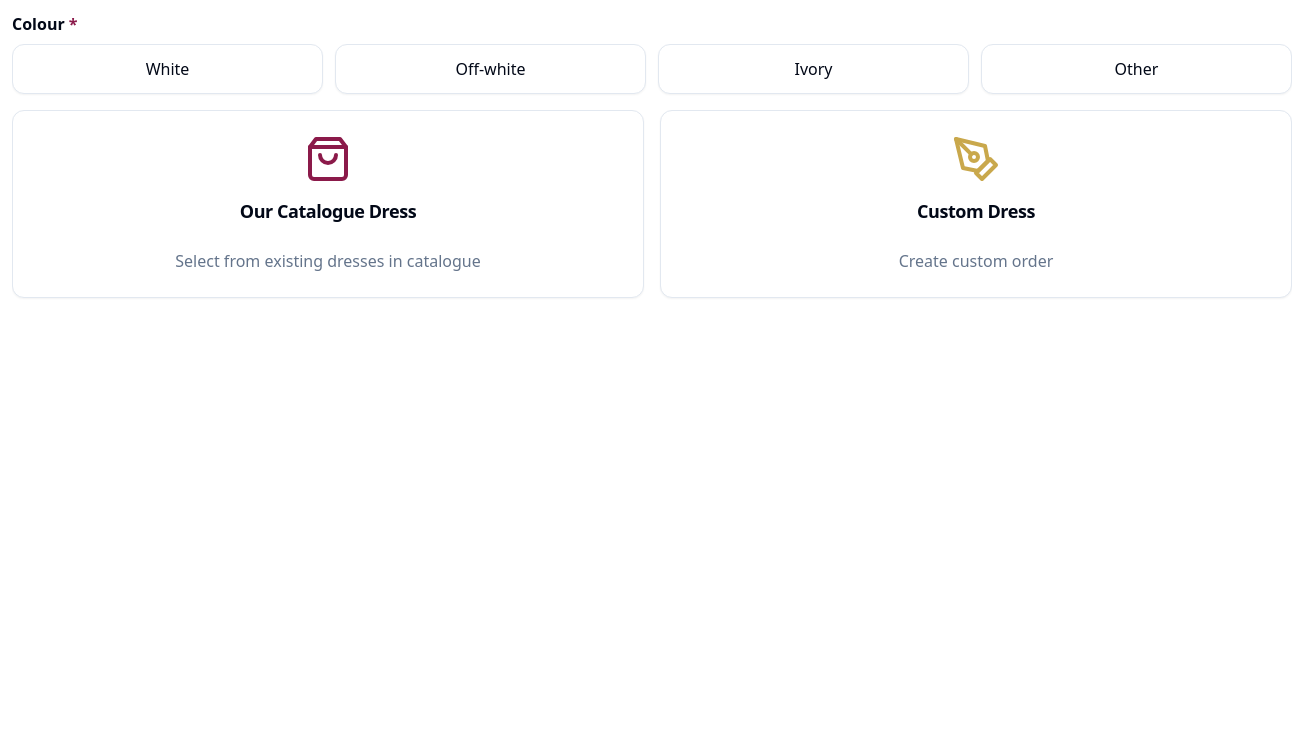
Test: Section2DressSelect › should show custom dress form when custom card is clicked
Click the text "Custom Dress" at (976, 211), box x1=917 y1=199 x2=1035 y2=223
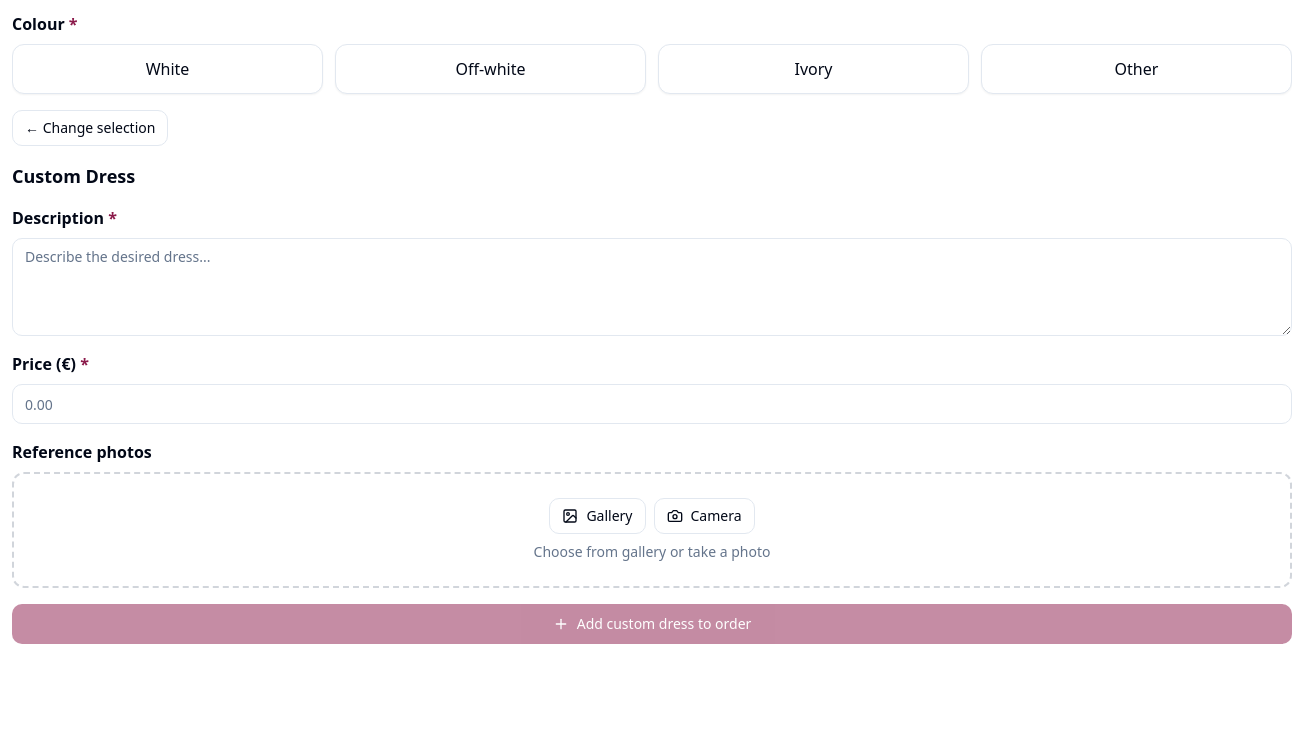
Check: the text box labelled "Description *" is shown, box x1=12 y1=238 x2=1292 y2=336
Check: the number field labelled "Price (€) *" is shown, box x1=12 y1=384 x2=1292 y2=424
